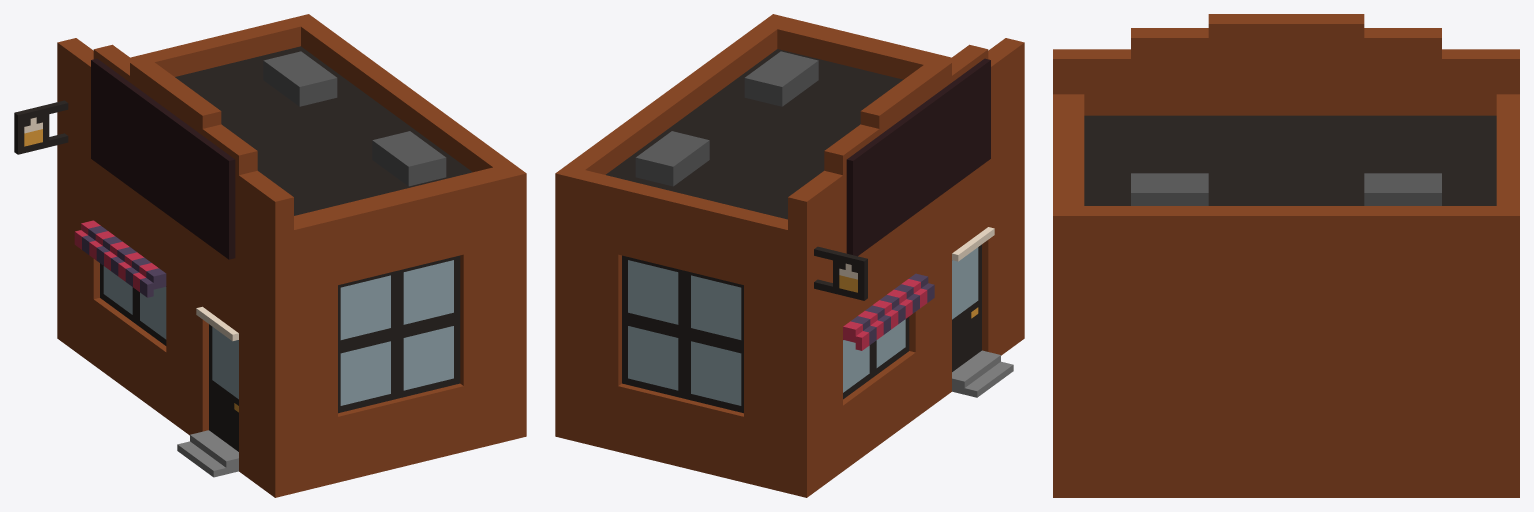
The model's file is Buildings Final For Import-12.obj.
The picture shows the model from 3 angles, left to right: view 1: azimuth 30°, elevation 25°; view 2: azimuth 150°, elevation 25°; view 3: azimuth 270°, elevation 25°; orthographic projection. The views are drawn at different scales.
Size of the model in its own units: 4.8 by 5 by 6.
Materials: 1 (1 with a texture image).
